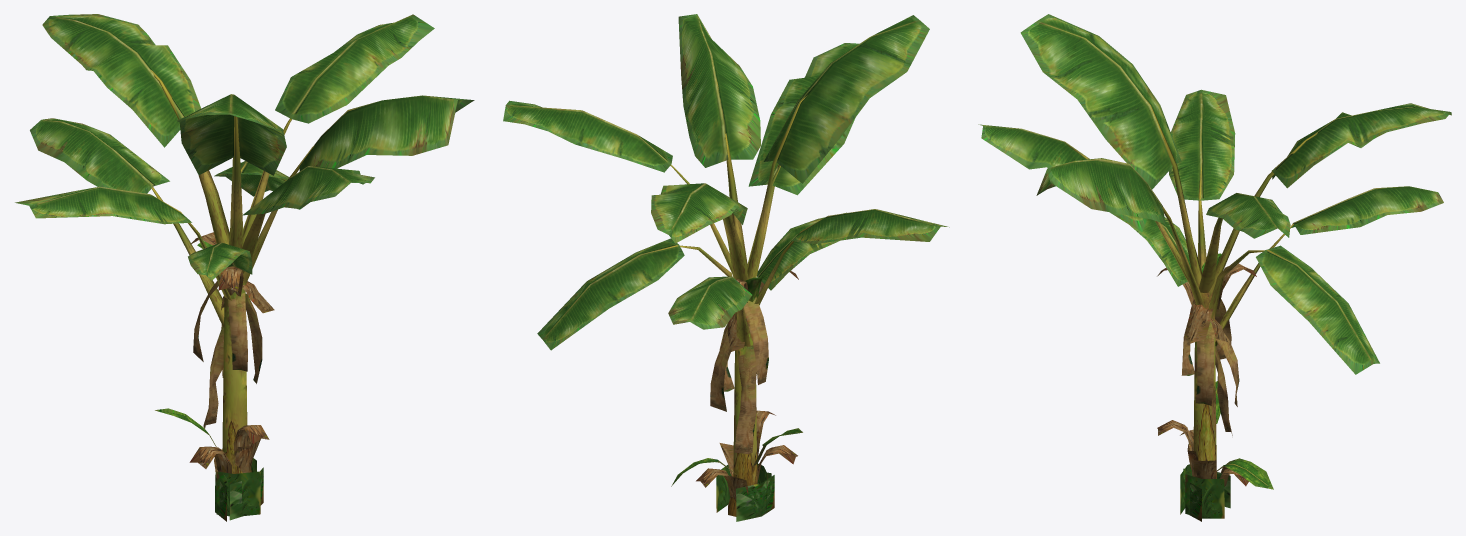
The model's file is Palm_5.fbx.
The picture shows the model from 3 angles, left to right: view 1: azimuth 30°, elevation 25°; view 2: azimuth 150°, elevation 25°; view 3: azimuth 270°, elevation 25°; orthographic projection. The views are drawn at different scales.
Parts seen in each view (by area): view 1: bananaTree01_Leaf_01; view 2: bananaTree01_Leaf_01; view 3: bananaTree01_Leaf_01.
Part boxes in pixels (x1=…): bananaTree01_Leaf_01: x1=15, y1=14, x2=474, y2=521; bananaTree01_Leaf_01: x1=503, y1=14, x2=949, y2=521; bananaTree01_Leaf_01: x1=978, y1=14, x2=1451, y2=521.
Size of the model in its own units: 4.38 by 4.65 by 4.47.
